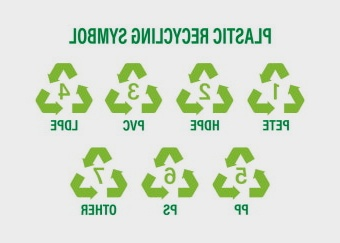plastic: (138, 142, 204, 226)
